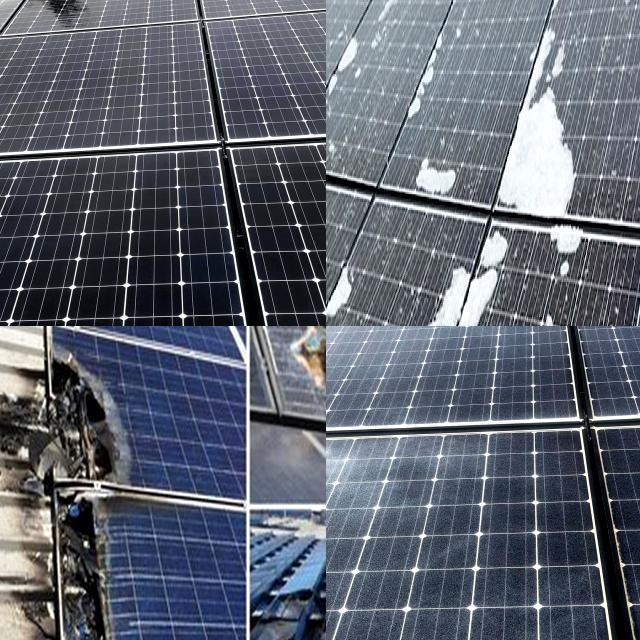crack: (8, 45, 208, 128), (28, 217, 184, 307), (35, 0, 245, 44), (0, 269, 101, 326), (0, 183, 62, 258), (58, 0, 205, 31)
panel: (493, 16, 586, 217), (383, 212, 508, 326), (406, 0, 447, 127), (326, 151, 362, 279), (326, 0, 365, 106), (501, 265, 559, 326), (326, 231, 363, 326), (410, 137, 460, 206), (326, 272, 371, 326), (326, 249, 345, 326), (326, 200, 337, 249)
shadow: (44, 362, 143, 640), (245, 591, 310, 640)
